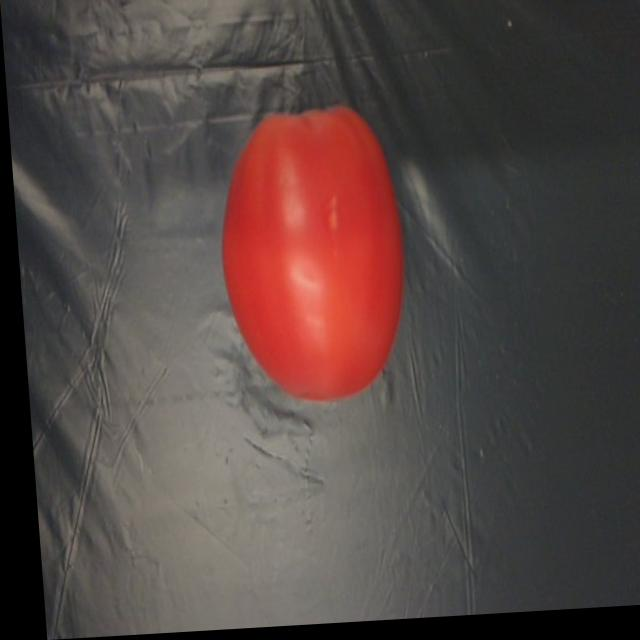kirmizi: (205, 111, 412, 417)
